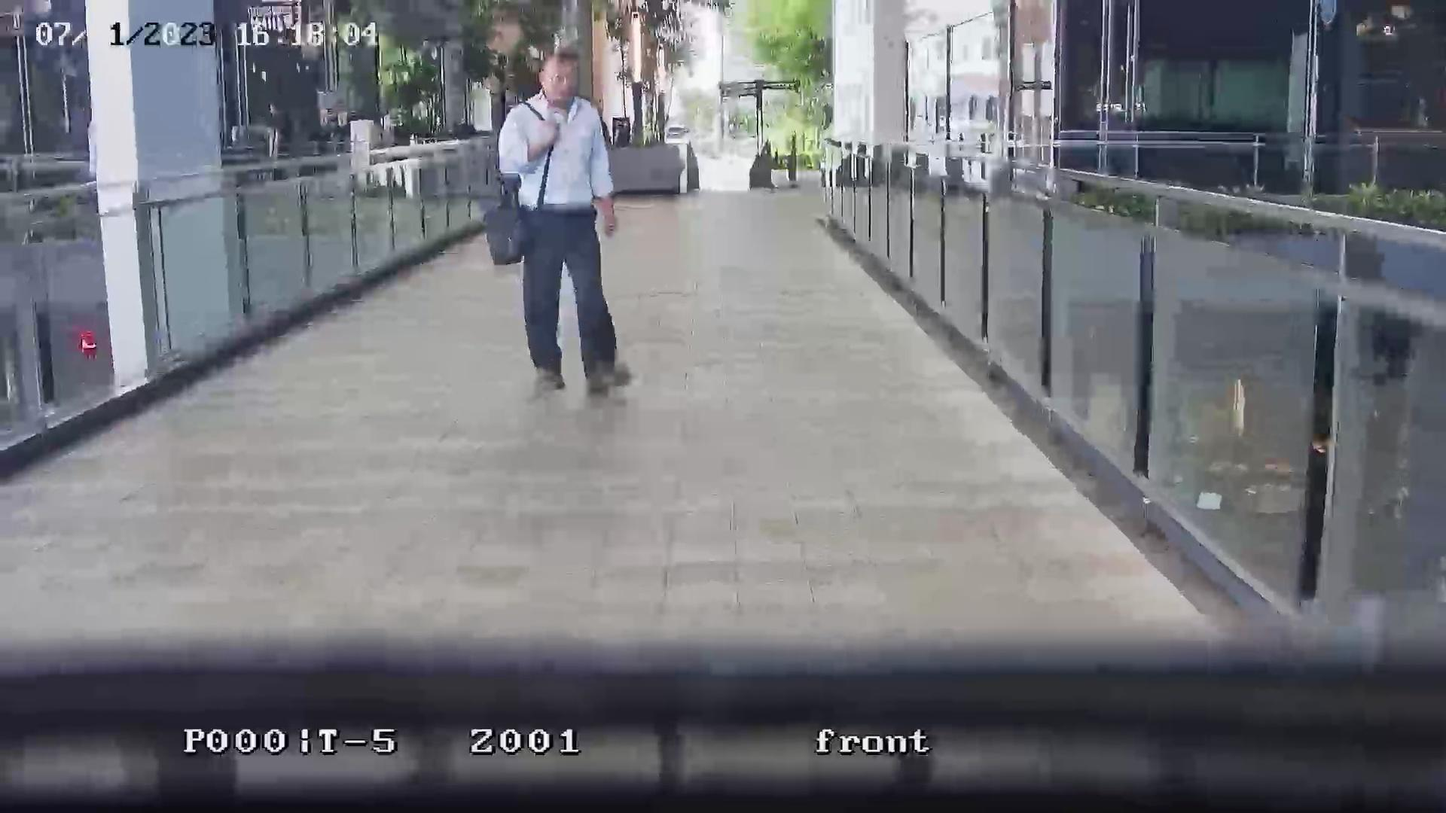person: (496, 38, 631, 397)
